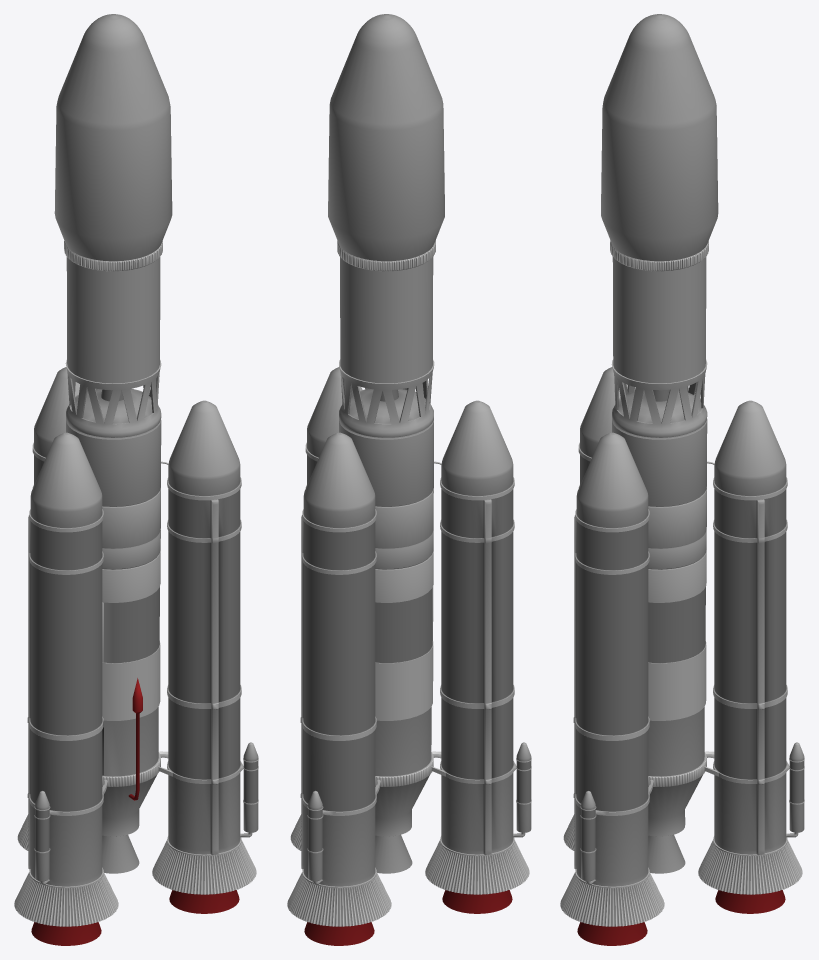
The model's file is Rocket.fbx.
The picture shows the model from 3 angles, left to right: view 1: azimuth 30°, elevation 25°; view 2: azimuth 150°, elevation 25°; view 3: azimuth 270°, elevation 25°; orthographic projection.
Parts seen in each view (by area): view 1: ISRO GSLV MK III Rocket Launch Vehicle; view 2: ISRO GSLV MK III Rocket Launch Vehicle; view 3: ISRO GSLV MK III Rocket Launch Vehicle.
Part boxes in pixels (<box>): ISRO GSLV MK III Rocket Launch Vehicle: <box>14,14,258,945</box>; ISRO GSLV MK III Rocket Launch Vehicle: <box>287,14,531,945</box>; ISRO GSLV MK III Rocket Launch Vehicle: <box>560,14,804,945</box>.
Bounding box in the file's own units: 1167 × 4341 × 1090.
